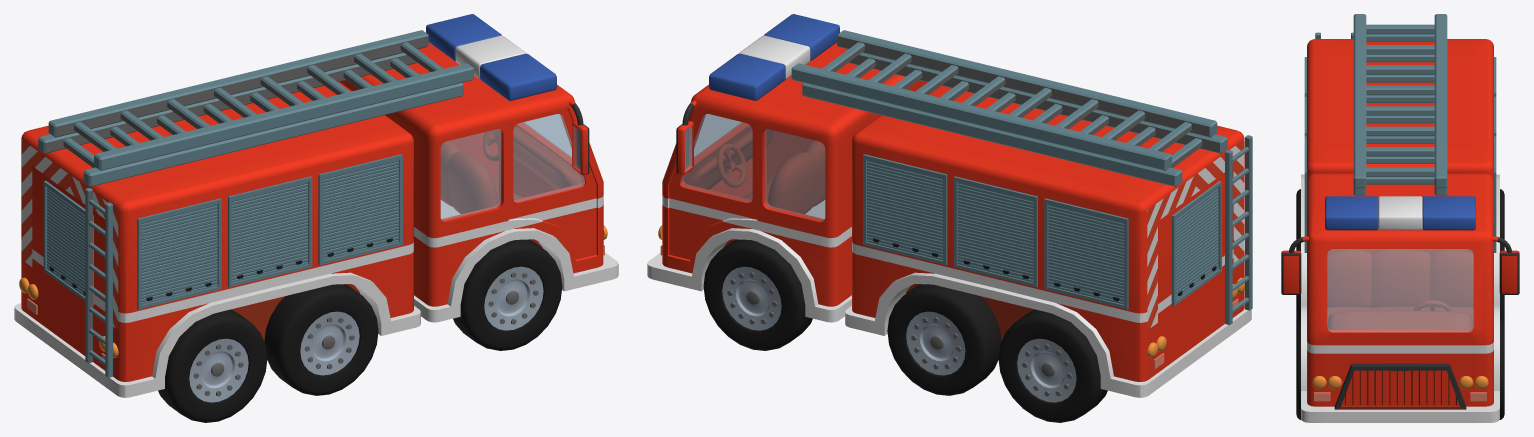
3 views of the same model, side by side, from view 1: azimuth 30°, elevation 25°; view 2: azimuth 150°, elevation 25°; view 3: azimuth 270°, elevation 25° (orthographic). The views are drawn at different scales.
Parts seen in each view (by area): view 1: 19.Firetruck; view 2: 19.Firetruck; view 3: 19.Firetruck.
Part boxes in pixels (x1=…): 19.Firetruck: x1=14, y1=14, x2=618, y2=422; 19.Firetruck: x1=647, y1=14, x2=1252, y2=422; 19.Firetruck: x1=1281, y1=14, x2=1519, y2=422.
Size of what is drawn, in the model's own units: 8.05 by 3.99 by 3.67.
1 material, 1 textured.
